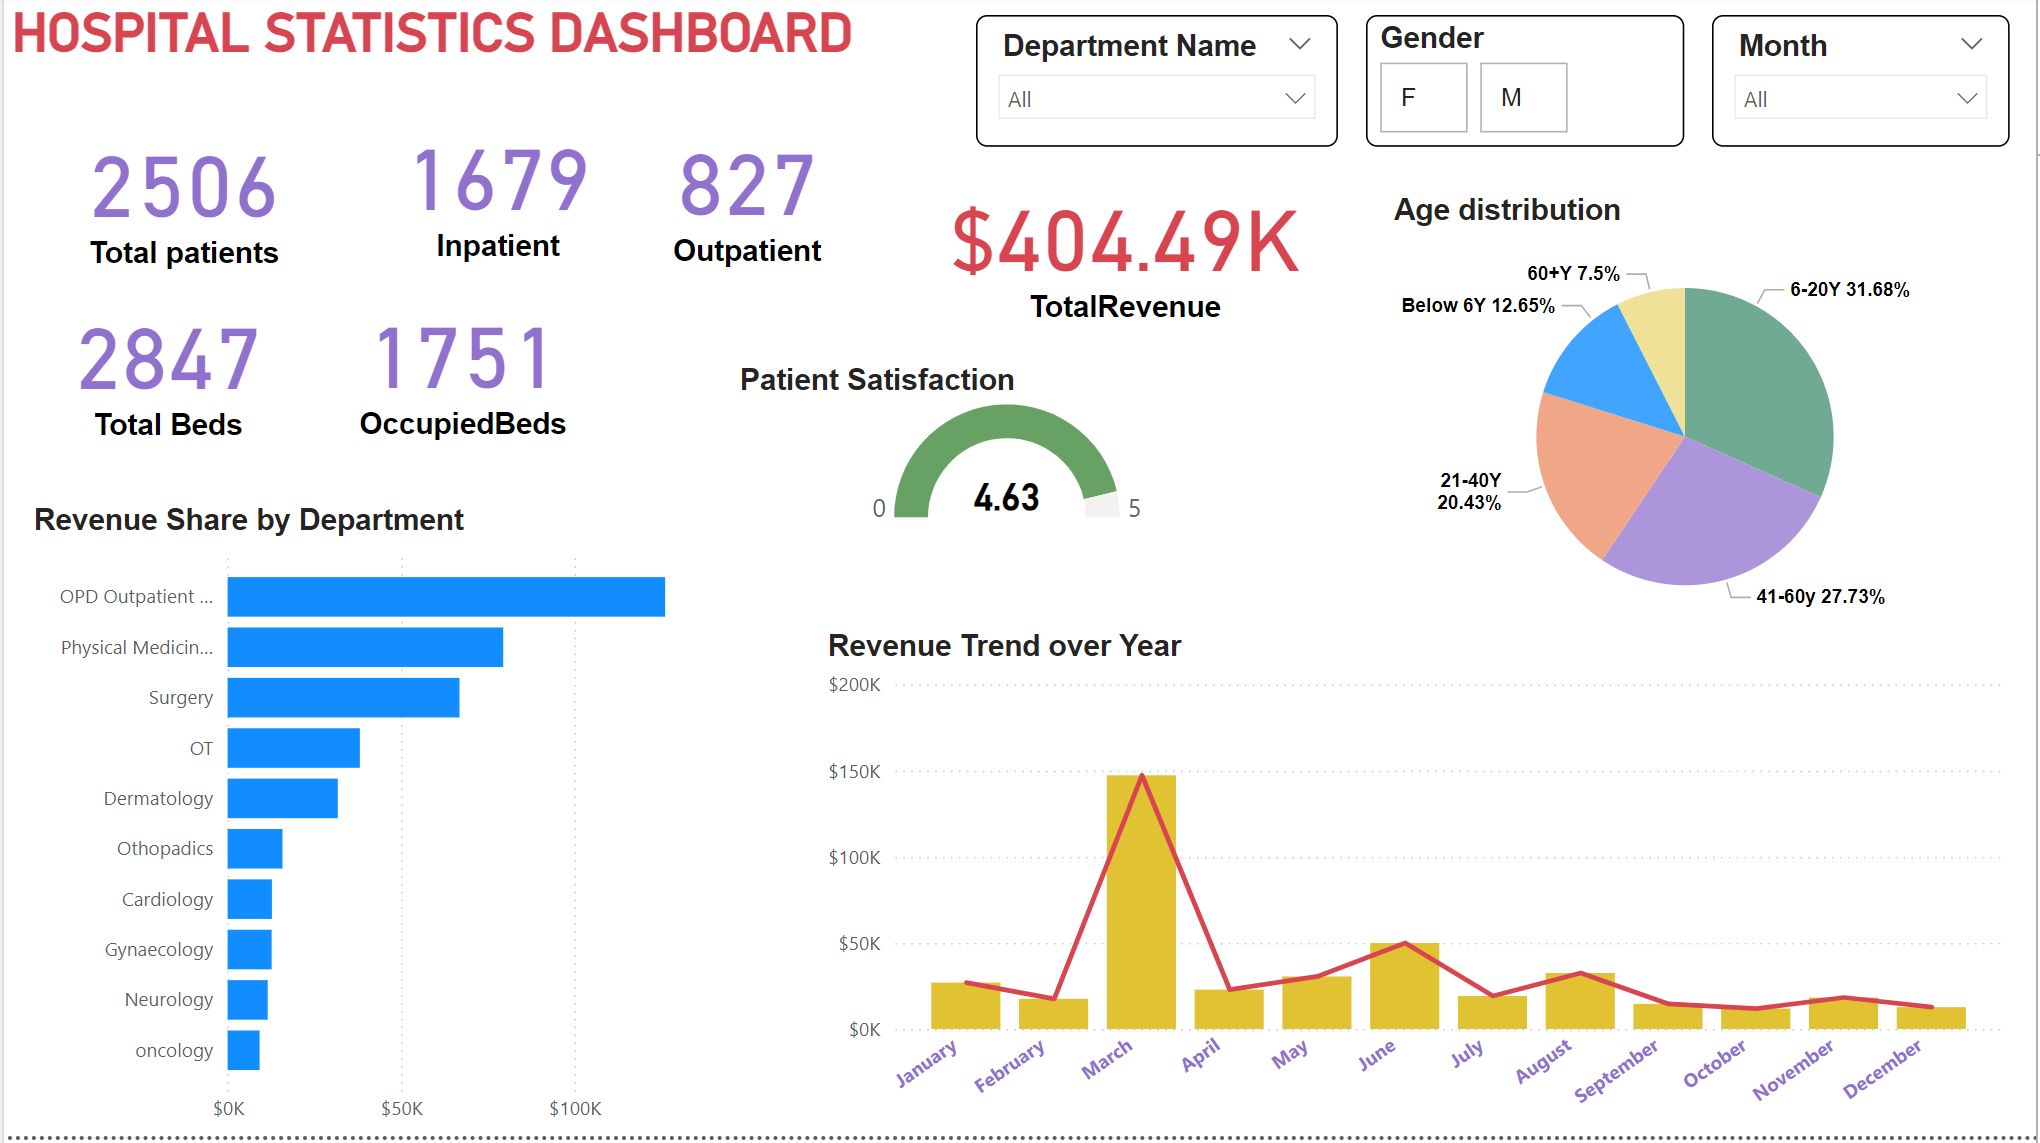

The page's visual inventory and layout, read from the dashboard file:
{"tool":"powerbi","page":{"name":"Page 1","canvas":[1280,720],"ordinal":0},"visuals":[{"type":"textbox","box":[0,0,584.6,66.8],"z":0},{"type":"card","fields":{"Values":["Bed_Detail.inpatient"]},"box":[205.4,66.8,211.7,108.3],"z":1000},{"type":"card","fields":{"Values":["CountNonNull(Detail data dataset.Gender)"]},"box":[0,71.8,226.8,107.1],"z":2000},{"type":"card","fields":{"Values":["Bed_Detail.outpatient"]},"box":[370.4,69.3,195.3,109.6],"z":3000},{"type":"card","fields":{"Values":["Bed_Detail.OccupiedBeds"]},"box":[173.9,178.9,230.6,108.3],"z":4000},{"type":"card","fields":{"Values":["Count(Bed_Detail.Bed_ID)"]},"box":[13.9,180.2,178.9,107.1],"z":6000},{"type":"pieChart","title":"Age distribution","fields":{"Category":["Detail data dataset.Age Bucket"],"Y":["CountNonNull(Detail data dataset.Age)"]},"box":[870.6,126,376.7,286],"z":9000},{"type":"card","fields":{"Values":["Bed_Detail.TotalRevenue"]},"box":[554.3,109.6,303.6,99.5],"z":9001},{"type":"gauge","fields":{"Y":["Bed_Detail.OverallPatientSatisfaction"]},"box":[458.6,233.1,346.5,107.1],"z":9004},{"type":"lineStackedColumnComboChart","title":"Revenue Trend over  Year","fields":{"Category":["Detail data dataset.Date.Variation.Date Hierarchy.Month"],"Y":["Bed_Detail.TotalRevenue"],"Y2":["Bed_Detail.TotalRevenue"]},"box":[514,400.6,749.6,320],"z":9005},{"type":"slicer","fields":{"Values":["Department.Department_Name"]},"box":[612.3,13.9,228,83.1],"z":9006},{"type":"advancedSlicerVisual","fields":{"Values":["Detail data dataset.Gender"]},"box":[858,13.9,200.3,83.1],"z":9007},{"type":"slicer","fields":{"Values":["Detail data dataset.Date.Variation.Date Hierarchy.Month"]},"box":[1075.9,13.9,187.7,83.1],"z":9008},{"type":"clusteredBarChart","title":"Revenue Share by Department","fields":{"Y":["Bed_Detail.TotalRevenue"],"Category":["Department.Department_Name"]},"box":[13.9,321.3,454.8,399.4],"z":9009}]}

Visuals, with their boxes in screenshot pixels (x1, y1, x2, y2), scaled from the page's 1280x720 canvas onto the 2040x1143 screenshot:
textbox: (0,0,932,106)
card - Bed_Detail.inpatient: (327,106,665,278)
card - CountNonNull(Detail data dataset.Gender): (0,114,361,284)
card - Bed_Detail.outpatient: (590,110,902,284)
card - Bed_Detail.OccupiedBeds: (277,284,645,456)
card - Count(Bed_Detail.Bed_ID): (22,286,307,456)
"Age distribution" pieChart: (1388,200,1988,654)
card - Bed_Detail.TotalRevenue: (883,174,1367,332)
gauge - Bed_Detail.OverallPatientSatisfaction: (731,370,1283,540)
"Revenue Trend over  Year" lineStackedColumnComboChart: (819,636,2014,1142)
slicer - Department.Department_Name: (976,22,1339,154)
advancedSlicerVisual - Detail data dataset.Gender: (1367,22,1687,154)
slicer - Detail data dataset.Date.Variation.Date Hierarchy.Month: (1715,22,2014,154)
"Revenue Share by Department" clusteredBarChart: (22,510,747,1142)
